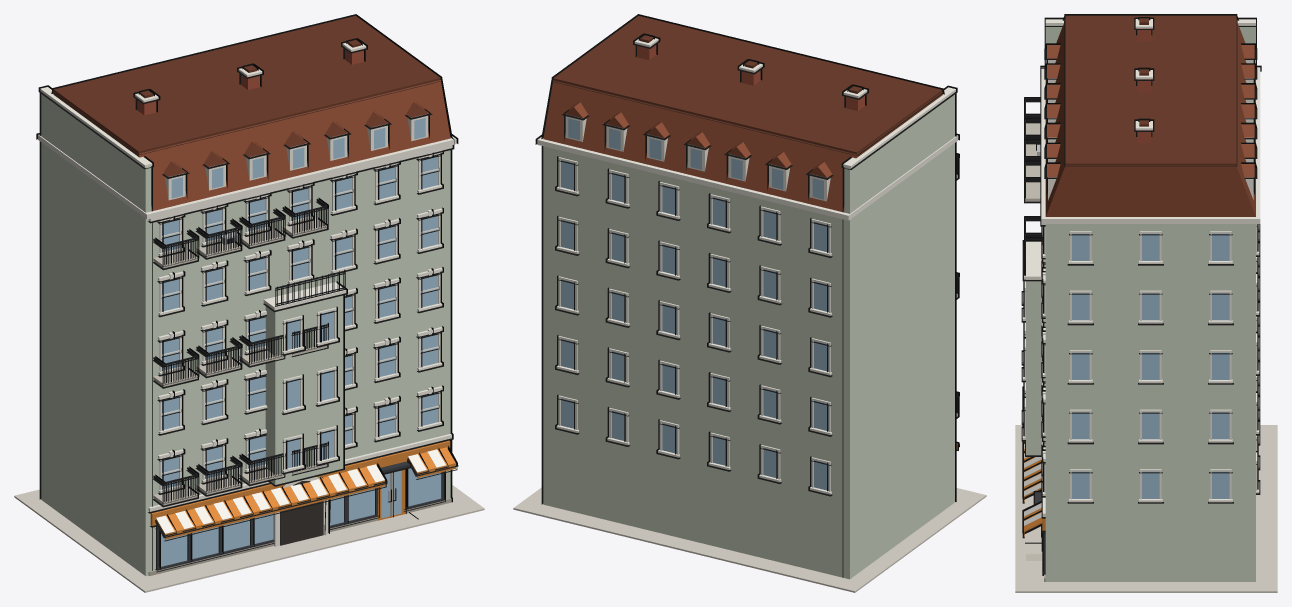
Rendered from Konut_ref_altbau.fbx.
3 views of the same model, side by side, from view 1: azimuth 30°, elevation 25°; view 2: azimuth 150°, elevation 25°; view 3: azimuth 270°, elevation 25° (orthographic).
Visible parts, largest first — view 1: Konut_ref_altbau; view 2: Konut_ref_altbau; view 3: Konut_ref_altbau.
Part boxes in pixels (x1,y1,x2,y2): Konut_ref_altbau: (14,14,484,592); Konut_ref_altbau: (513,14,986,592); Konut_ref_altbau: (1015,14,1277,592).
Bounding box in the file's own units: 18 × 22.25 × 12.
